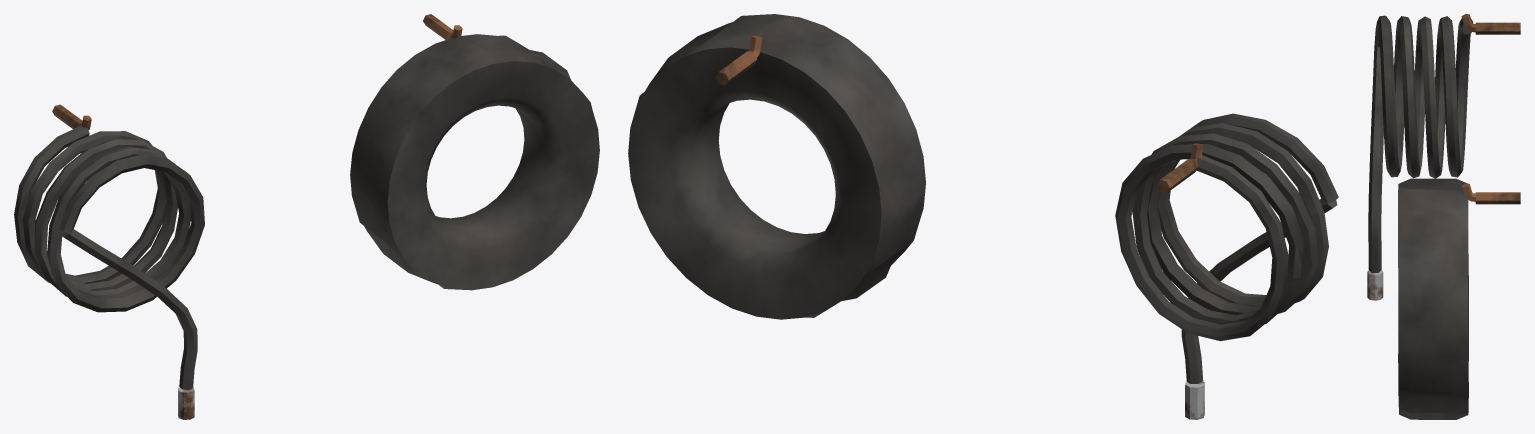
The model's file is HangingCoils.fbx.
3 renders of one model, left to right at view 1: azimuth 30°, elevation 25°; view 2: azimuth 150°, elevation 25°; view 3: azimuth 270°, elevation 25°, orthographic. The views are drawn at different scales.
Visible parts, largest first — view 1: HangingTire, HangingHoseCoil; view 2: HangingTire, HangingHoseCoil; view 3: HangingTire, HangingHoseCoil.
Boxes of the visible parts, <box> form: HangingTire: <box>350,14,599,290</box>; HangingHoseCoil: <box>14,104,204,419</box>; HangingTire: <box>628,14,925,319</box>; HangingHoseCoil: <box>1115,113,1338,419</box>; HangingTire: <box>1398,178,1520,419</box>; HangingHoseCoil: <box>1367,14,1520,300</box>.
Bounding box in the file's own units: 169 × 79.83 × 42.84.
Materials: 1 (1 with a texture image).
